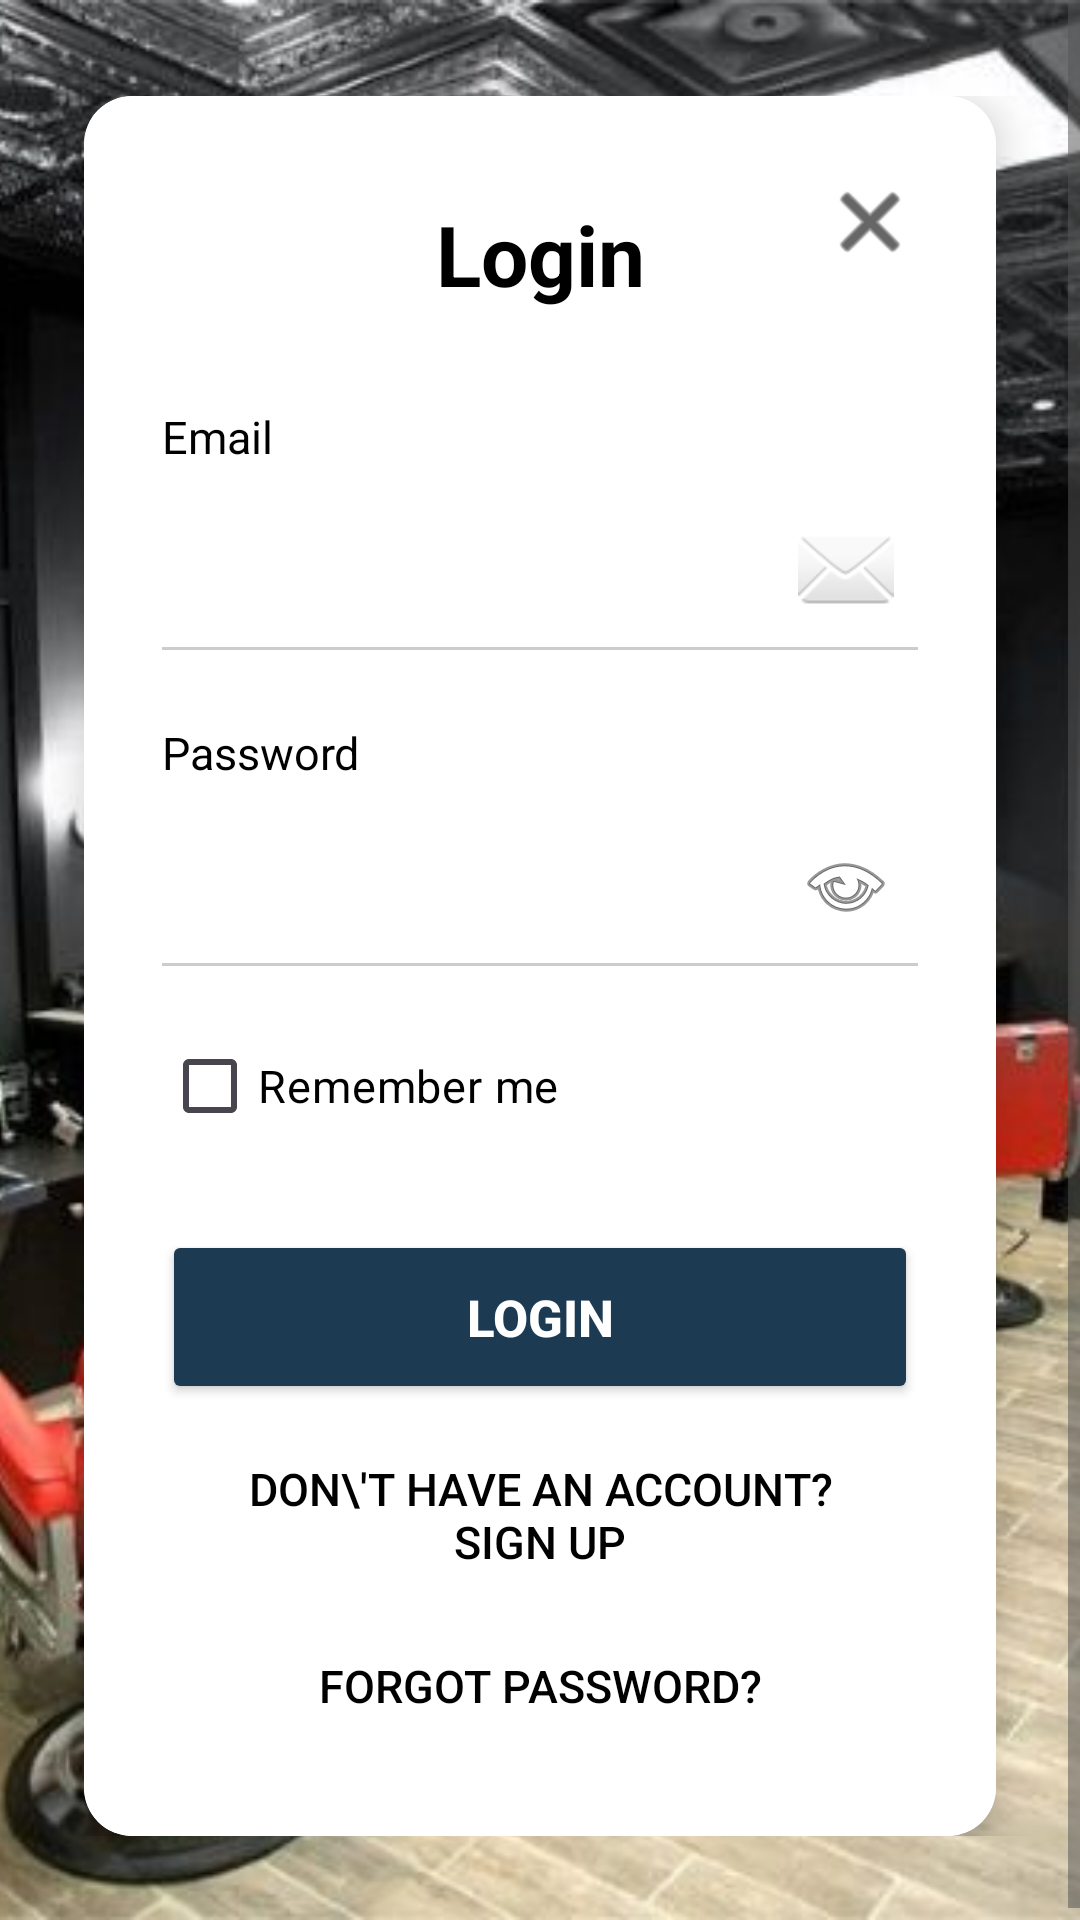

Screen size 1080px x 1920px. Icon name, then its center in pixels as (x,y):
Close: (870,222)
